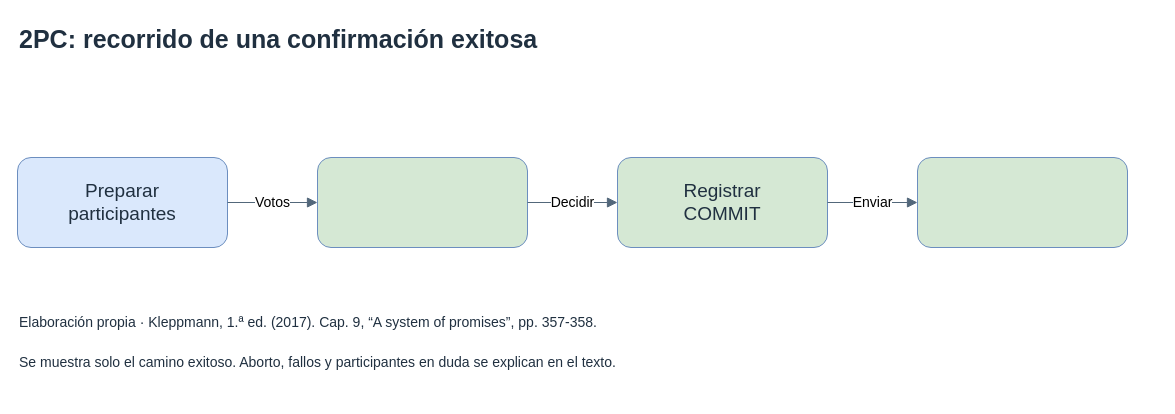
Image size: 1175x414. Some labels were removed from this diagram. Each missing label, with the centre of its shape:
Comunicar COMMIT: (x=1022, y=202)
Todos votan sí: (x=422, y=202)
